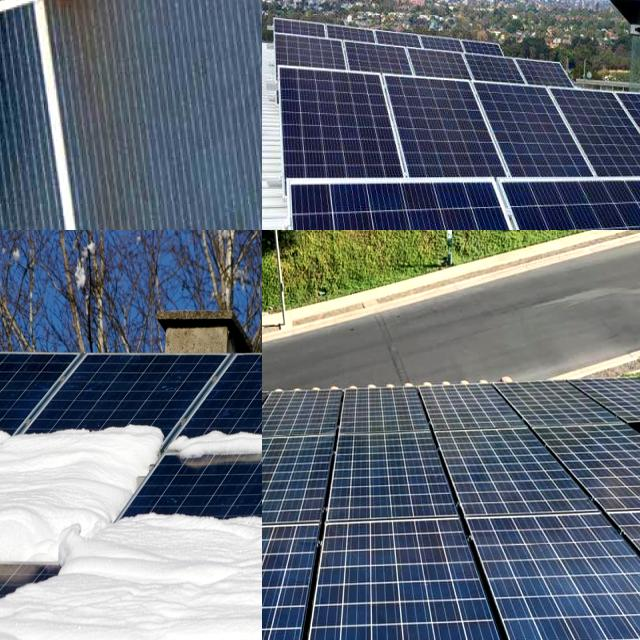crack: (377, 72, 517, 198), (274, 64, 407, 194), (465, 71, 597, 190), (537, 77, 640, 197), (262, 525, 320, 638), (342, 548, 430, 608), (341, 26, 419, 91), (270, 24, 350, 86), (482, 538, 572, 588), (394, 42, 484, 91), (336, 469, 436, 513), (454, 461, 544, 507), (339, 390, 434, 432), (610, 76, 640, 200), (574, 447, 640, 499), (262, 453, 302, 520), (262, 480, 319, 522), (262, 551, 298, 616), (429, 615, 471, 640), (371, 620, 409, 640), (466, 622, 506, 640), (337, 622, 376, 640), (407, 620, 441, 640), (305, 626, 351, 640)
panel: (0, 397, 173, 572), (168, 489, 262, 627), (0, 565, 106, 640), (170, 404, 262, 475)
shadow: (12, 0, 150, 76), (179, 0, 257, 46)
